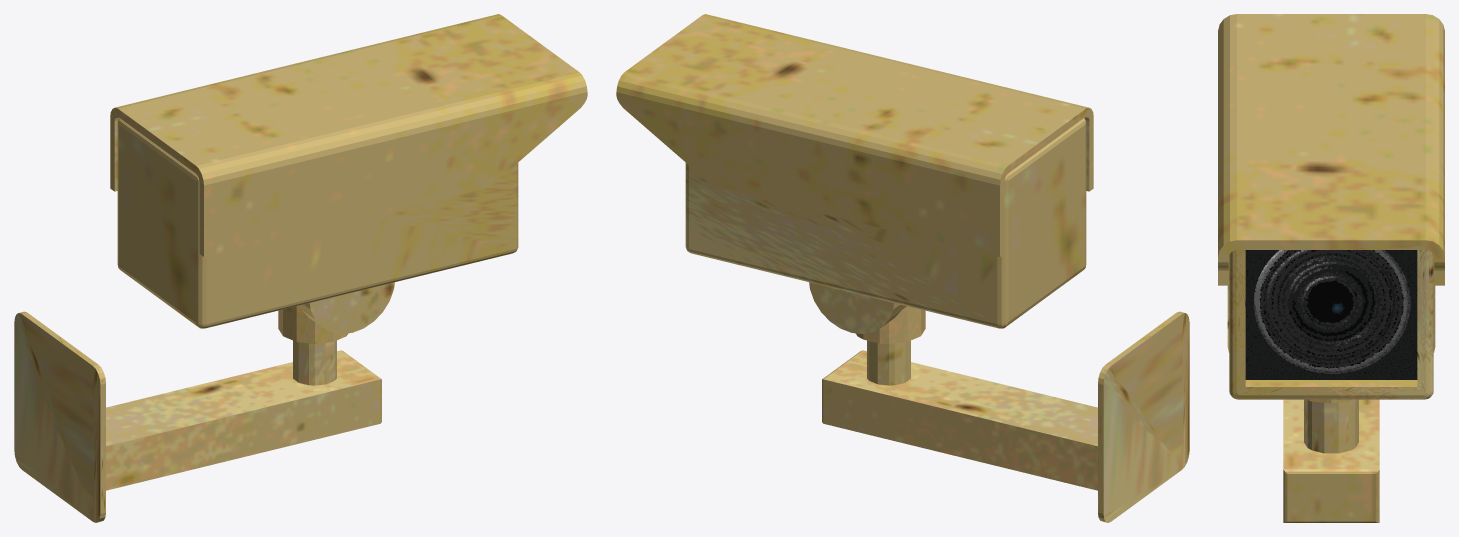
Rendered from CameraDeSeguranca.fbx.
3 renders of one model, left to right at view 1: azimuth 30°, elevation 25°; view 2: azimuth 150°, elevation 25°; view 3: azimuth 270°, elevation 25°, orthographic. The views are drawn at different scales.
Visible parts, largest first — view 1: Cube, Cube.001; view 2: Cube, Cube.001; view 3: Cube, Cube.001.
Boxes of the visible parts, x1,y1,x2,y2 form: Cube: (110, 14, 587, 333); Cube.001: (14, 306, 381, 522); Cube: (616, 14, 1093, 333); Cube.001: (822, 306, 1189, 522); Cube: (1218, 14, 1444, 399); Cube.001: (1227, 256, 1435, 522).
Size of the model in its own units: 68.67 by 45.39 by 23.1.
Materials: 1 (1 with a texture image).
